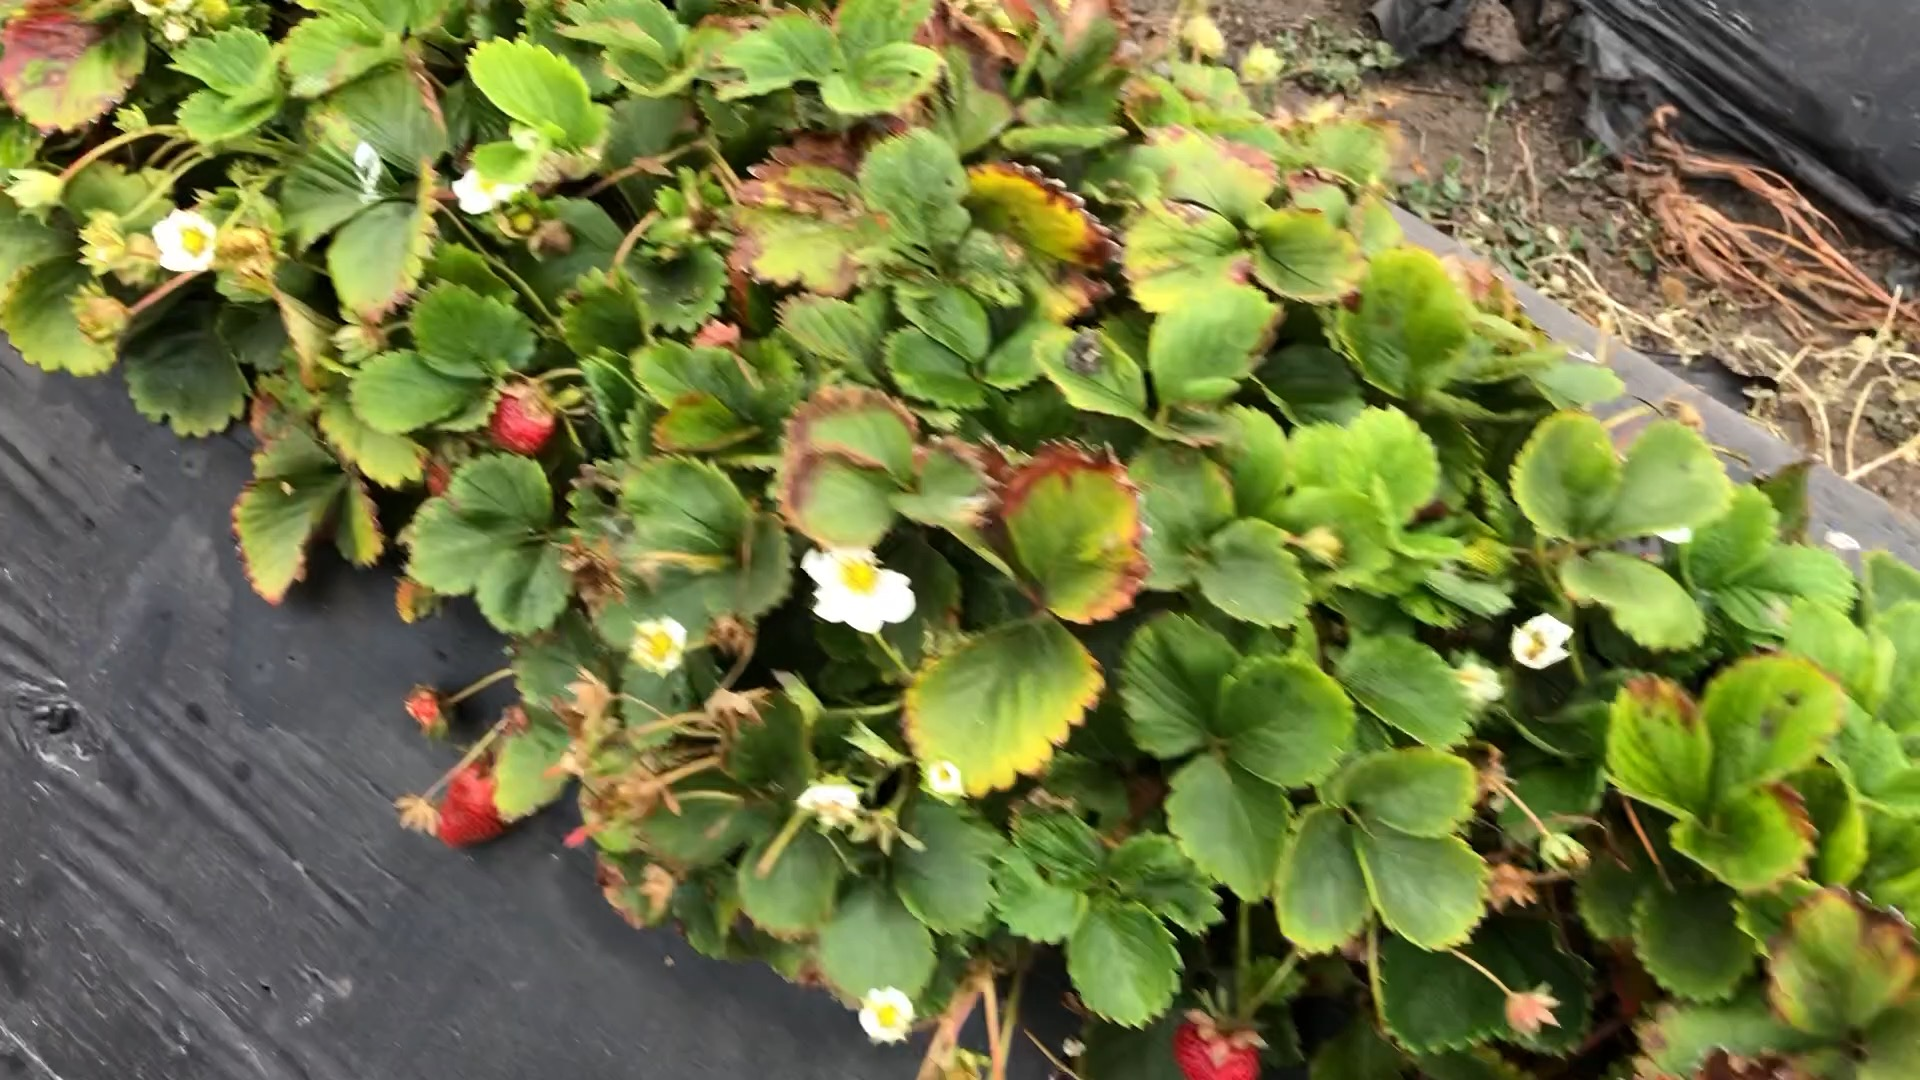ripe_strawberry: (433, 752, 524, 852), (1174, 1011, 1262, 1080), (484, 386, 560, 458)
